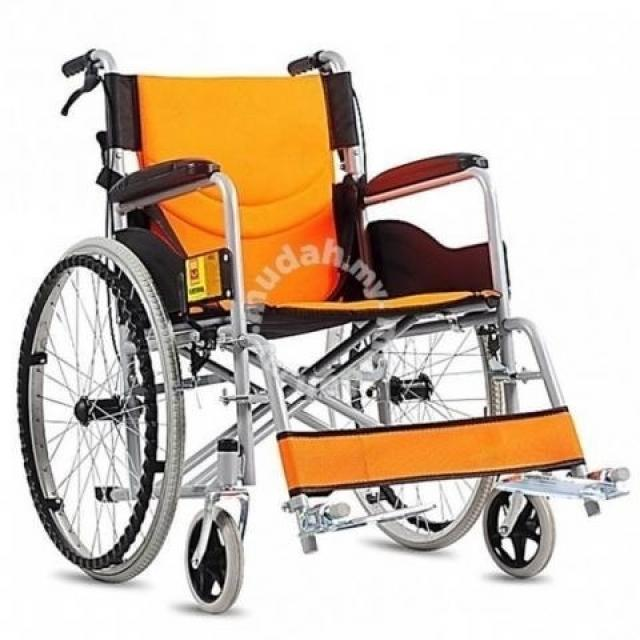wheelchair: (5, 40, 640, 623)
